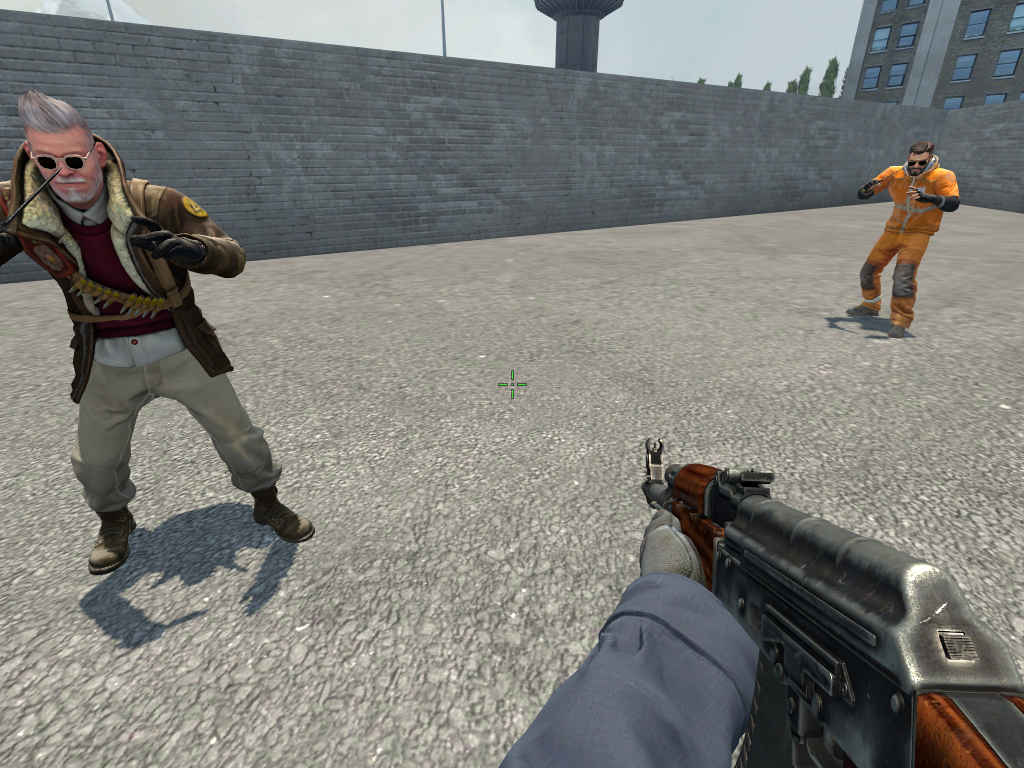tr head: (14, 87, 110, 207), (906, 140, 935, 178)
